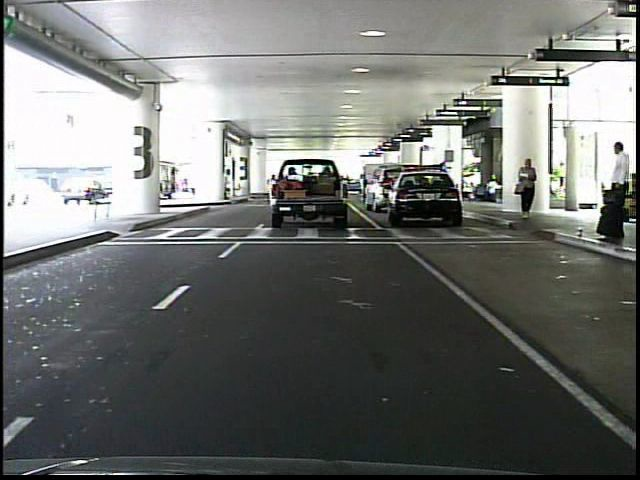person: (595, 137, 629, 243), (516, 150, 544, 224)
